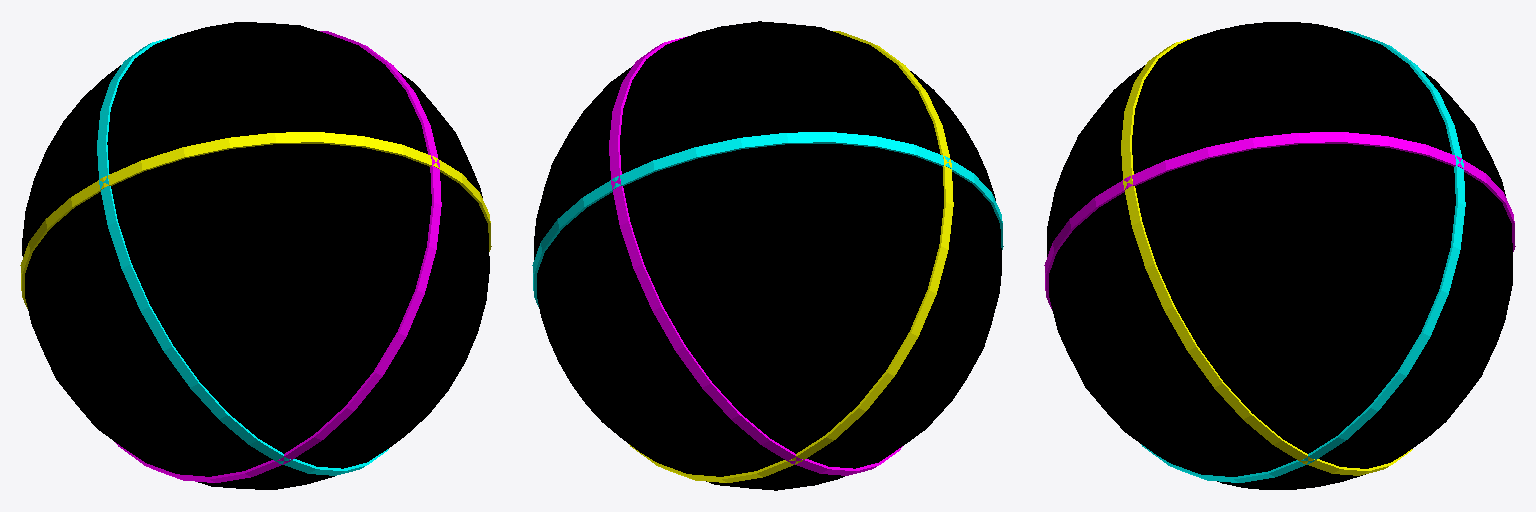
The robot description file, URDF, robot "onshape":
<robot name="onshape">

    <material name="black">
        <color rgba="0 0 0 0.8"/>
    </material>
    <material name="cyan">
        <color rgba="0.0 1.0 1.0 1.0"/>
    </material>
    <material name="magenta">
        <color rgba="1.0 0.0 1.0 1.0"/>
    </material>
    <material name="yellow">
        <color rgba="1.0 1.0 0.0 1.0"/>
    </material>
    <link name="fake_dummy_body:1">
        <visual>
            <origin xyz="0 0 0" rpy="-0.785398 -0.61548 1.19113" />
            <geometry>
                <sphere radius="0.1"/>
            </geometry>
            <material name="black"/>
        </visual>
        <inertial>
            <origin xyz="0 0 0" rpy="0 0 0"/>
            <mass value="0.0737312" />
            <inertia ixx="0.00107839" ixy="-2.72753e-07" ixz="-6.10453e-07" iyy="0.00107874" iyz="-3.33412e-07" izz="0.00107814" />
        </inertial>
    </link>

    <link name="rev_joint:1">
        <visual>
            <origin xyz="0 0 0" rpy="3.14159 0 0" />
            <geometry>
                <cylinder radius="0.101" length="0.005"/>
            </geometry>
            <material name="cyan"/>
        </visual>
        <inertial>
            <origin xyz="0.0438631 0 -0.000928357" rpy="0 0 0"/>
            <mass value="0.00153243" />
            <inertia ixx="1.18928e-06" ixy="1.25481e-22" ixz="-8.58241e-08" iyy="2.31952e-06" iyz="1.38287e-22" izz="2.36022e-06" />
        </inertial>
    </link>

    <link name="member:1">
        <visual>
            <origin xyz="0 0 -0.5" rpy="0 -0 0" />
            <geometry>
                <mesh filename="package://member:1.stl"/>
            </geometry>
            <material name="member:1_material">
                <color rgba="0 0 1 1.0"/>
            </material>
        </visual>
        <collision>
            <origin xyz="0 0 -0.5" rpy="0 -0 0" />
            <geometry>
                <mesh filename="package://member:1.stl"/>
            </geometry>
            <material name="member:1_material">
                <color rgba="0 0 1 1.0"/>
            </material>
            <surface>
                <friction>
                <ode>
                    <mu>1</mu>
                    <mu2>0.5</mu2>
                </ode>
                </friction>
            </surface>
        </collision>
        <inertial>
            <origin xyz="0 0 -0.402703" rpy="0 0 0"/>
            <mass value="6.54356" />
            <inertia ixx="0.175312" ixy="-1.94635e-17" ixz="0" iyy="0.175312" iyz="1.82947e-09" izz="0.0193419" />
        </inertial>
    </link>

    <joint name="pri1" type="prismatic">
        <origin xyz="0.1 0 0" rpy="1.5708 0 -1.5708" />
        <parent link="rev_joint:1" />
        <child link="member:1" />
        <axis xyz="0 0 1"/>
        <limit effort="1" velocity="20" lower="-1" upper="0"/>
        <joint_properties friction="0.0"/>
    </joint>

    <joint name="rev1" type="revolute">
        <origin xyz="0 0 0" rpy="0.785398 0.61548 0.143931" />
        <parent link="fake_dummy_body:1" />
        <child link="rev_joint:1" />
        <axis xyz="0 0 1"/>
        <limit effort="1" velocity="20" lower="-1" upper="1"/>
        <joint_properties friction="0.0"/>
    </joint>

    <link name="rev_joint:1_2">
        <visual>
            <origin xyz="0 0 0" rpy="-3.14159 -0 -0" />
            <geometry>
                <cylinder radius="0.101" length="0.005"/>
            </geometry>
            <material name="magenta"/>
        </visual>
        <inertial>
            <origin xyz="0.0438631 0 -0.000928357" rpy="0 0 0"/>
            <mass value="0.00153243" />
            <inertia ixx="1.18928e-06" ixy="2.56032e-22" ixz="-8.58241e-08" iyy="2.31952e-06" iyz="-7.26909e-24" izz="2.36022e-06" />
        </inertial>
    </link>

    <link name="member:1_2">
        <visual>
            <origin xyz="0 0 -0.5" rpy="0 0 0" />
            <geometry>
                <mesh filename="package://member:1.stl"/>
            </geometry>
            <material name="member:1_material">
                <color rgba="0 0 1 1.0"/>
            </material>
        </visual>
        <collision>
            <origin xyz="0 0 -0.5" rpy="0 0 0" />
            <geometry>
                <mesh filename="package://member:1.stl"/>
            </geometry>
            <material name="member:1_material">
                <color rgba="0 0 1 1.0"/>
            </material>
            <surface>
                <friction>
                <ode>
                    <mu>1</mu>
                    <mu2>0.5</mu2>
                </ode>
                </friction>
            </surface>
        </collision>
        <inertial>
            <origin xyz="-9.8046e-17 0 -0.402703" rpy="0 0 0"/>
            <mass value="6.54356" />
            <inertia ixx="0.175312" ixy="-9.73176e-18" ixz="3.78533e-17" iyy="0.175312" iyz="1.82947e-09" izz="0.0193419" />
        </inertial>
    </link>

    <joint name="pri2" type="prismatic">
        <origin xyz="0.1 0 0" rpy="1.5708 0 -1.5708" />
        <parent link="rev_joint:1_2" />
        <child link="member:1_2" />
        <axis xyz="0 0 1"/>
        <limit effort="1" velocity="20" lower="-1" upper="0"/>
        <joint_properties friction="0.0"/>
    </joint>

    <joint name="rev2" type="revolute">
        <origin xyz="0 0 0" rpy="0.785398 0.61548 -1.95046" />
        <parent link="fake_dummy_body:1" />
        <child link="rev_joint:1_2" />
        <axis xyz="0 0 1"/>
        <limit effort="1" velocity="20" lower="-1" upper="1"/>
        <joint_properties friction="0.0"/>
    </joint>

    <link name="rev_joint:1_3">
        <visual>
            <origin xyz="0 0 0" rpy="-3.14159 -0 0" />
            <geometry>
                <cylinder radius="0.101" length="0.005"/>
            </geometry>
            <material name="yellow"/>
        </visual>
        <inertial>
            <origin xyz="0.0438631 0 -0.000928357" rpy="0 0 0"/>
            <mass value="0.00153243" />
            <inertia ixx="1.18928e-06" ixy="-4.76419e-24" ixz="-8.58241e-08" iyy="2.31952e-06" iyz="2.59777e-22" izz="2.36022e-06" />
        </inertial>
    </link>

    <link name="member:1_3">
        <visual>
            <origin xyz="0 0 -0.5" rpy="0 -0 0" />
            <geometry>
                <mesh filename="package://member:1.stl"/>
            </geometry>
            <material name="member:1_material">
                <color rgba="0 0 1 1.0"/>
            </material>
        </visual>
        <collision>
            <origin xyz="0 0 -0.5" rpy="0 -0 0" />
            <geometry>
                <mesh filename="package://member:1.stl"/>
            </geometry>
            <material name="member:1_material">
                <color rgba="0 0 1 1.0"/>
            </material>
            <surface>
                <friction>
                <ode>
                    <mu>1</mu>
                    <mu2>0.5</mu2>
                </ode>
                </friction>
            </surface>
        </collision>
        <inertial>
            <origin xyz="0 0 -0.402703" rpy="0 0 0"/>
            <mass value="6.54356" />
            <inertia ixx="0.175312" ixy="-1.94635e-17" ixz="0" iyy="0.175312" iyz="1.82947e-09" izz="0.0193419" />
        </inertial>
    </link>

    <joint name="pri3" type="prismatic">
        <origin xyz="0.1 0 0" rpy="-3.14159 1.5708 0" />
        <parent link="rev_joint:1_3" />
        <child link="member:1_3" />
        <axis xyz="0 0 1"/>
        <limit effort="1" velocity="20" lower="-1" upper="0"/>
        <joint_properties friction="0.0"/>
    </joint>

    <joint name="rev3" type="revolute">
        <origin xyz="0 0 0" rpy="-2.35619 0.61548 2.23833" />
        <parent link="fake_dummy_body:1" />
        <child link="rev_joint:1_3" />
        <axis xyz="0 0 1"/>
        <limit effort="1" velocity="20" lower="-1" upper="1"/>
        <joint_properties friction="0.0"/>
    </joint>

    <link name="rev_joint:1_4">
        <visual>
            <origin xyz="0 0 0" rpy="3.14159 -0 0" />
            <geometry>
                <cylinder radius="0.01" length="0.001"/>
            </geometry>
            <material name="rev_joint:1_material">
                <color rgba="0.980392 0.713725 0.00392157 1.0"/>
            </material>
        </visual>
        <inertial>
            <origin xyz="0.0438631 0 -0.000928357" rpy="0 0 0"/>
            <mass value="0.00153243" />
            <inertia ixx="1.18928e-06" ixy="7.07826e-23" ixz="-8.58241e-08" iyy="2.31952e-06" iyz="-3.93301e-22" izz="2.36022e-06" />
        </inertial>
    </link>

    <link name="member:1_4">
        <visual>
            <origin xyz="0 0 -0.5" rpy="0 -0 -0" />
            <geometry>
                <mesh filename="package://member:1.stl"/>
            </geometry>
            <material name="member:1_material">
                <color rgba="0 0 1 1.0"/>
            </material>
        </visual>
        <collision>
            <origin xyz="0 0 -0.5" rpy="0 -0 -0" />
            <geometry>
                <mesh filename="package://member:1.stl"/>
            </geometry>
            <material name="member:1_material">
                <color rgba="0 0 1 1.0"/>
            </material>
            <surface>
                <friction>
                <ode>
                    <mu>1</mu>
                    <mu2>0.5</mu2>
                </ode>
                </friction>
            </surface>
        </collision>
        <inertial>
            <origin xyz="0 0 -0.402703" rpy="0 0 0"/>
            <mass value="6.54356" />
            <inertia ixx="0.175312" ixy="-5.30476e-24" ixz="-1.83898e-17" iyy="0.175312" iyz="1.82947e-09" izz="0.0193419" />
        </inertial>
    </link>

    <joint name="pri4" type="prismatic">
        <origin xyz="0.1 0 0" rpy="-3.14159 1.5708 0" />
        <parent link="rev_joint:1_4" />
        <child link="member:1_4" />
        <axis xyz="0 0 1"/>
        <limit effort="1" velocity="20" lower="-1" upper="0"/>
        <joint_properties friction="0.0"/>
    </joint>

    <joint name="rev4" type="revolute">
        <origin xyz="0 0 0" rpy="-0.785398 -0.61548 -0.903267" />
        <parent link="fake_dummy_body:1" />
        <child link="rev_joint:1_4" />
        <axis xyz="0 0 1"/>
        <limit effort="1" velocity="20" lower="-1" upper="1"/>
        <joint_properties friction="0.0"/>
    </joint>

    <link name="rev_joint:1_5">
        <visual>
            <origin xyz="0 0 0" rpy="3.14159 0 0" />
            <geometry>
                <cylinder radius="0.01" length="0.001"/>
            </geometry>
            <material name="rev_joint:1_material">
                <color rgba="0.980392 0.713725 0.00392157 1.0"/>
            </material>
        </visual>
        <inertial>
            <origin xyz="0.0438631 0 -0.000928357" rpy="0 0 0"/>
            <mass value="0.00153243" />
            <inertia ixx="1.18928e-06" ixy="2.64074e-22" ixz="-8.58241e-08" iyy="2.31952e-06" iyz="-1.90568e-23" izz="2.36022e-06" />
        </inertial>
    </link>

    <link name="member:1_5">
        <visual>
            <origin xyz="0 0 -0.5" rpy="0 -0 0" />
            <geometry>
                <mesh filename="package://member:1.stl"/>
            </geometry>
            <material name="member:1_material">
                <color rgba="0 0 1 1.0"/>
            </material>
        </visual>
        <collision>
            <origin xyz="0 0 -0.5" rpy="0 -0 0" />
            <geometry>
                <mesh filename="package://member:1.stl"/>
            </geometry>
            <material name="member:1_material">
                <color rgba="0 0 1 1.0"/>
            </material>
            <surface>
                <friction>
                <ode>
                    <mu>1</mu>
                    <mu2>0.5</mu2>
                </ode>
                </friction>
            </surface>
        </collision>
        <inertial>
            <origin xyz="0 0 -0.402703" rpy="0 0 0"/>
            <mass value="6.54356" />
            <inertia ixx="0.175312" ixy="2.91953e-17" ixz="-8.65807e-18" iyy="0.175312" iyz="1.82947e-09" izz="0.0193419" />
        </inertial>
    </link>

    <joint name="pri5" type="prismatic">
        <origin xyz="0.1 0 0" rpy="1.5708 0 -1.5708" />
        <parent link="rev_joint:1_5" />
        <child link="member:1_5" />
        <axis xyz="0 0 1"/>
        <limit effort="1" velocity="20" lower="-1" upper="0"/>
        <joint_properties friction="0.0"/>
    </joint>

    <joint name="rev5" type="revolute">
        <origin xyz="0 0 0" rpy="2.35619 -0.61548 1.19113" />
        <parent link="fake_dummy_body:1" />
        <child link="rev_joint:1_5" />
        <axis xyz="0 0 1"/>
        <limit effort="1" velocity="20" lower="-1" upper="1"/>
        <joint_properties friction="0.0"/>
    </joint>

    <link name="rev_joint:1_6">
        <visual>
            <origin xyz="0 0 0" rpy="-3.14159 -0 -0" />
            <geometry>
                <cylinder radius="0.01" length="0.001"/>
            </geometry>
            <material name="rev_joint:1_material">
                <color rgba="0.980392 0.713725 0.00392157 1.0"/>
            </material>
        </visual>
        <inertial>
            <origin xyz="0.0438631 0 -0.000928357" rpy="0 0 0"/>
            <mass value="0.00153243" />
            <inertia ixx="1.18928e-06" ixy="2.51268e-22" ixz="-8.58241e-08" iyy="2.31952e-06" iyz="1.23749e-22" izz="2.36022e-06" />
        </inertial>
    </link>

    <link name="member:1_6">
        <visual>
            <origin xyz="0 0 -0.5" rpy="0 0 0" />
            <geometry>
                <mesh filename="package://member:1.stl"/>
            </geometry>
            <material name="member:1_material">
                <color rgba="0 0 1 1.0"/>
            </material>
        </visual>
        <collision>
            <origin xyz="0 0 -0.5" rpy="0 0 0" />
            <geometry>
                <mesh filename="package://member:1.stl"/>
            </geometry>
            <material name="member:1_material">
                <color rgba="0 0 1 1.0"/>
            </material>
            <surface>
                <friction>
                <ode>
                    <mu>1</mu>
                    <mu2>0.5</mu2>
                </ode>
                </friction>
            </surface>
        </collision>
        <inertial>
            <origin xyz="0 0 -0.402703" rpy="0 0 0"/>
            <mass value="6.54356" />
            <inertia ixx="0.175312" ixy="-1.09142e-23" ixz="1.83898e-17" iyy="0.175312" iyz="1.82947e-09" izz="0.0193419" />
        </inertial>
    </link>

    <joint name="pri6" type="prismatic">
        <origin xyz="0.1 0 0" rpy="1.5708 0 -1.5708" />
        <parent link="rev_joint:1_6" />
        <child link="member:1_6" />
        <axis xyz="0 0 1"/>
        <limit effort="1" velocity="20" lower="-1" upper="0"/>
        <joint_properties friction="0.0"/>
    </joint>

    <joint name="rev6" type="revolute">
        <origin xyz="0 0 0" rpy="2.35619 -0.61548 -2.99766" />
        <parent link="fake_dummy_body:1" />
        <child link="rev_joint:1_6" />
        <axis xyz="0 0 1"/>
        <limit effort="1" velocity="20" lower="-1" upper="1"/>
        <joint_properties friction="0.0"/>
    </joint>


</robot>

--- Facts derived from the render (not from the file) ---
Views: 3 orthographic renders of the robot side by side, from view 1: azimuth 30°, elevation 25°; view 2: azimuth 150°, elevation 25°; view 3: azimuth 270°, elevation 25°.
Robot: onshape — 13 links, 12 joints (6 revolute, 6 prismatic); root link fake_dummy_body:1; default pose: every joint at zero.
Links seen in each view (by area): view 1: fake_dummy_body:1, rev_joint:1_3, rev_joint:1, rev_joint:1_2; view 2: fake_dummy_body:1, rev_joint:1_2, rev_joint:1, rev_joint:1_3; view 3: fake_dummy_body:1, rev_joint:1_2, rev_joint:1_3, rev_joint:1.
Link boxes in pixels (box(x1,y1,x2,y2)): fake_dummy_body:1: box(22, 22, 489, 489); rev_joint:1_3: box(20, 132, 491, 308); rev_joint:1: box(97, 37, 388, 475); rev_joint:1_2: box(115, 31, 441, 482); fake_dummy_body:1: box(534, 21, 1001, 490); rev_joint:1_2: box(609, 36, 902, 475); rev_joint:1: box(532, 132, 1003, 306); rev_joint:1_3: box(629, 31, 953, 482); fake_dummy_body:1: box(1047, 22, 1512, 489); rev_joint:1_2: box(1044, 132, 1515, 310); rev_joint:1_3: box(1121, 38, 1412, 475); rev_joint:1: box(1141, 31, 1465, 482).
Bounding box of the posed robot: 0.1998 × 0.2005 × 0.1999 m (x, y, z).
Geometry: only primitive shapes (box / cylinder / sphere) drawn; not drawn: 6 mesh visuals (reference in a form the renderer does not follow).